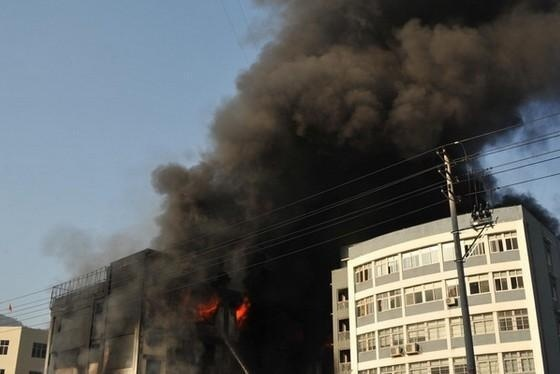fire: (234, 298, 250, 319)
